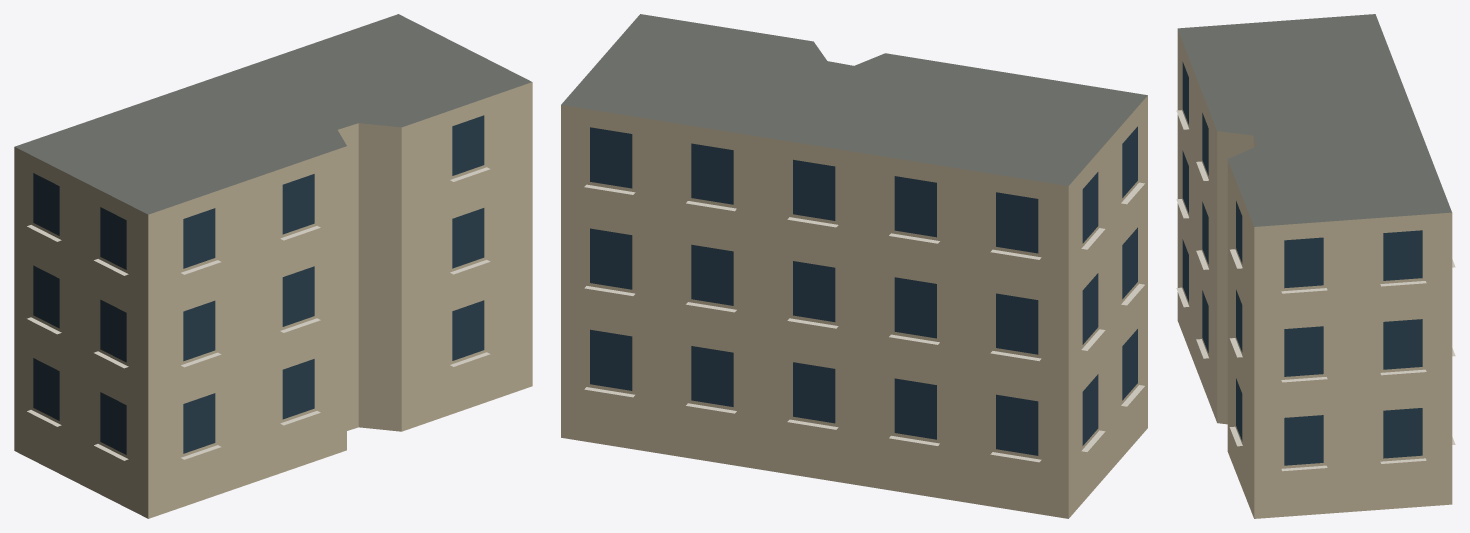
3 renders of one model, left to right at view 1: azimuth 30°, elevation 25°; view 2: azimuth 150°, elevation 25°; view 3: azimuth 270°, elevation 25°, orthographic. The views are drawn at different scales.
Parts seen in each view (by area): view 1: Footprint 0, Inferred window bays, Window sills; view 2: Footprint 0, Inferred window bays, Window sills; view 3: Footprint 0, Inferred window bays, Window sills.
Boxes of the visible parts, x1,y1,x2,y2 form: Footprint 0: (14, 14, 532, 518); Inferred window bays: (33, 115, 484, 454); Window sills: (27, 167, 490, 460); Footprint 0: (561, 14, 1147, 518); Inferred window bays: (590, 126, 1137, 455); Window sills: (584, 182, 1144, 462); Footprint 0: (1177, 14, 1452, 518); Inferred window bays: (1182, 62, 1422, 465); Window sills: (1176, 110, 1455, 471).
Bounding box in the file's own units: 15.92 × 10.07 × 8.73.
